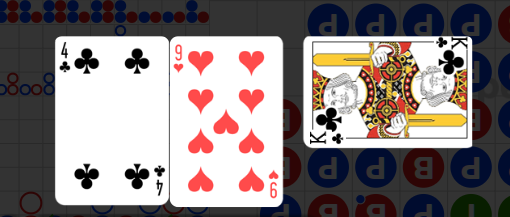4C: (58, 40, 73, 74)
9H: (267, 168, 279, 199)
KC: (432, 36, 467, 51)
